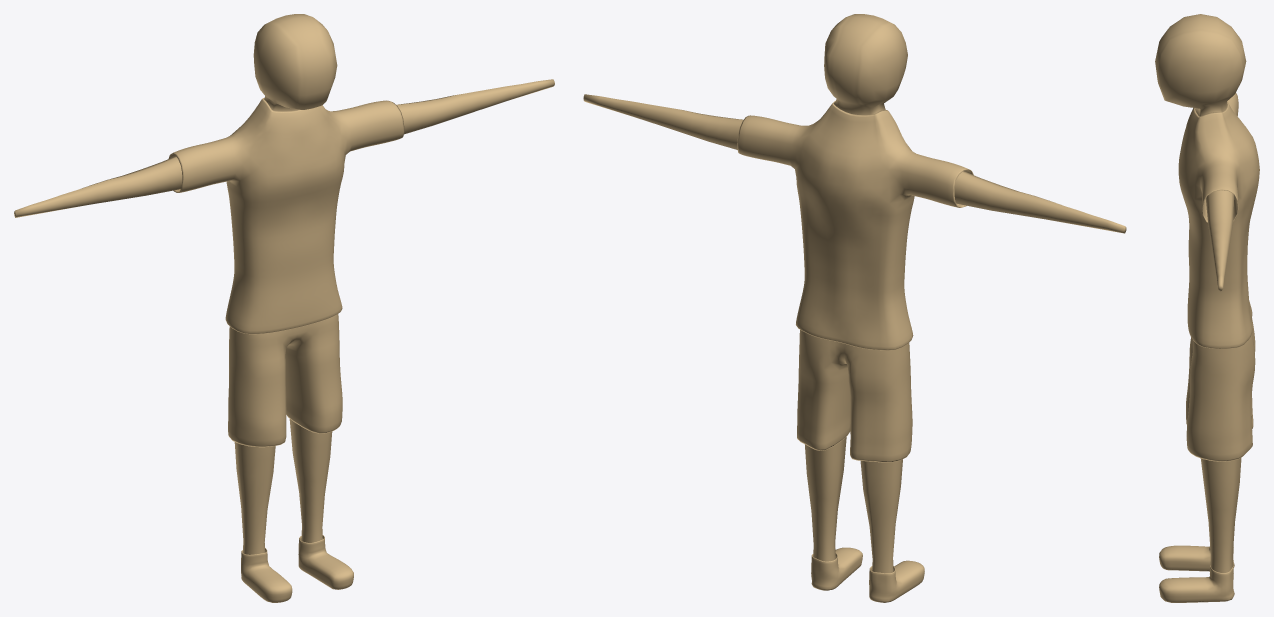
File: VRBoyModsShortClothesMapped.fbx
3 views of the same model, side by side, from view 1: azimuth 30°, elevation 25°; view 2: azimuth 150°, elevation 25°; view 3: azimuth 270°, elevation 25° (orthographic).
Parts seen in each view (by area): view 1: Shirt, Body, Pants, Shoes; view 2: Shirt, Body, Pants, Shoes; view 3: Shirt, Body, Pants, Shoes.
Boxes of the visible parts, x1,y1,x2,y2 form: Shirt: (168,98,404,334); Body: (14,14,554,554); Pants: (228,314,342,447); Shoes: (241,535,353,602); Shirt: (737,100,973,350); Body: (583,14,1126,573); Pants: (797,330,912,462); Shoes: (811,547,924,602); Shirt: (1178,93,1259,348); Body: (1155,14,1246,572); Pants: (1186,318,1255,461); Shoes: (1159,545,1234,602).
Bounding box in the file's own units: 339 × 340 × 57.33.
